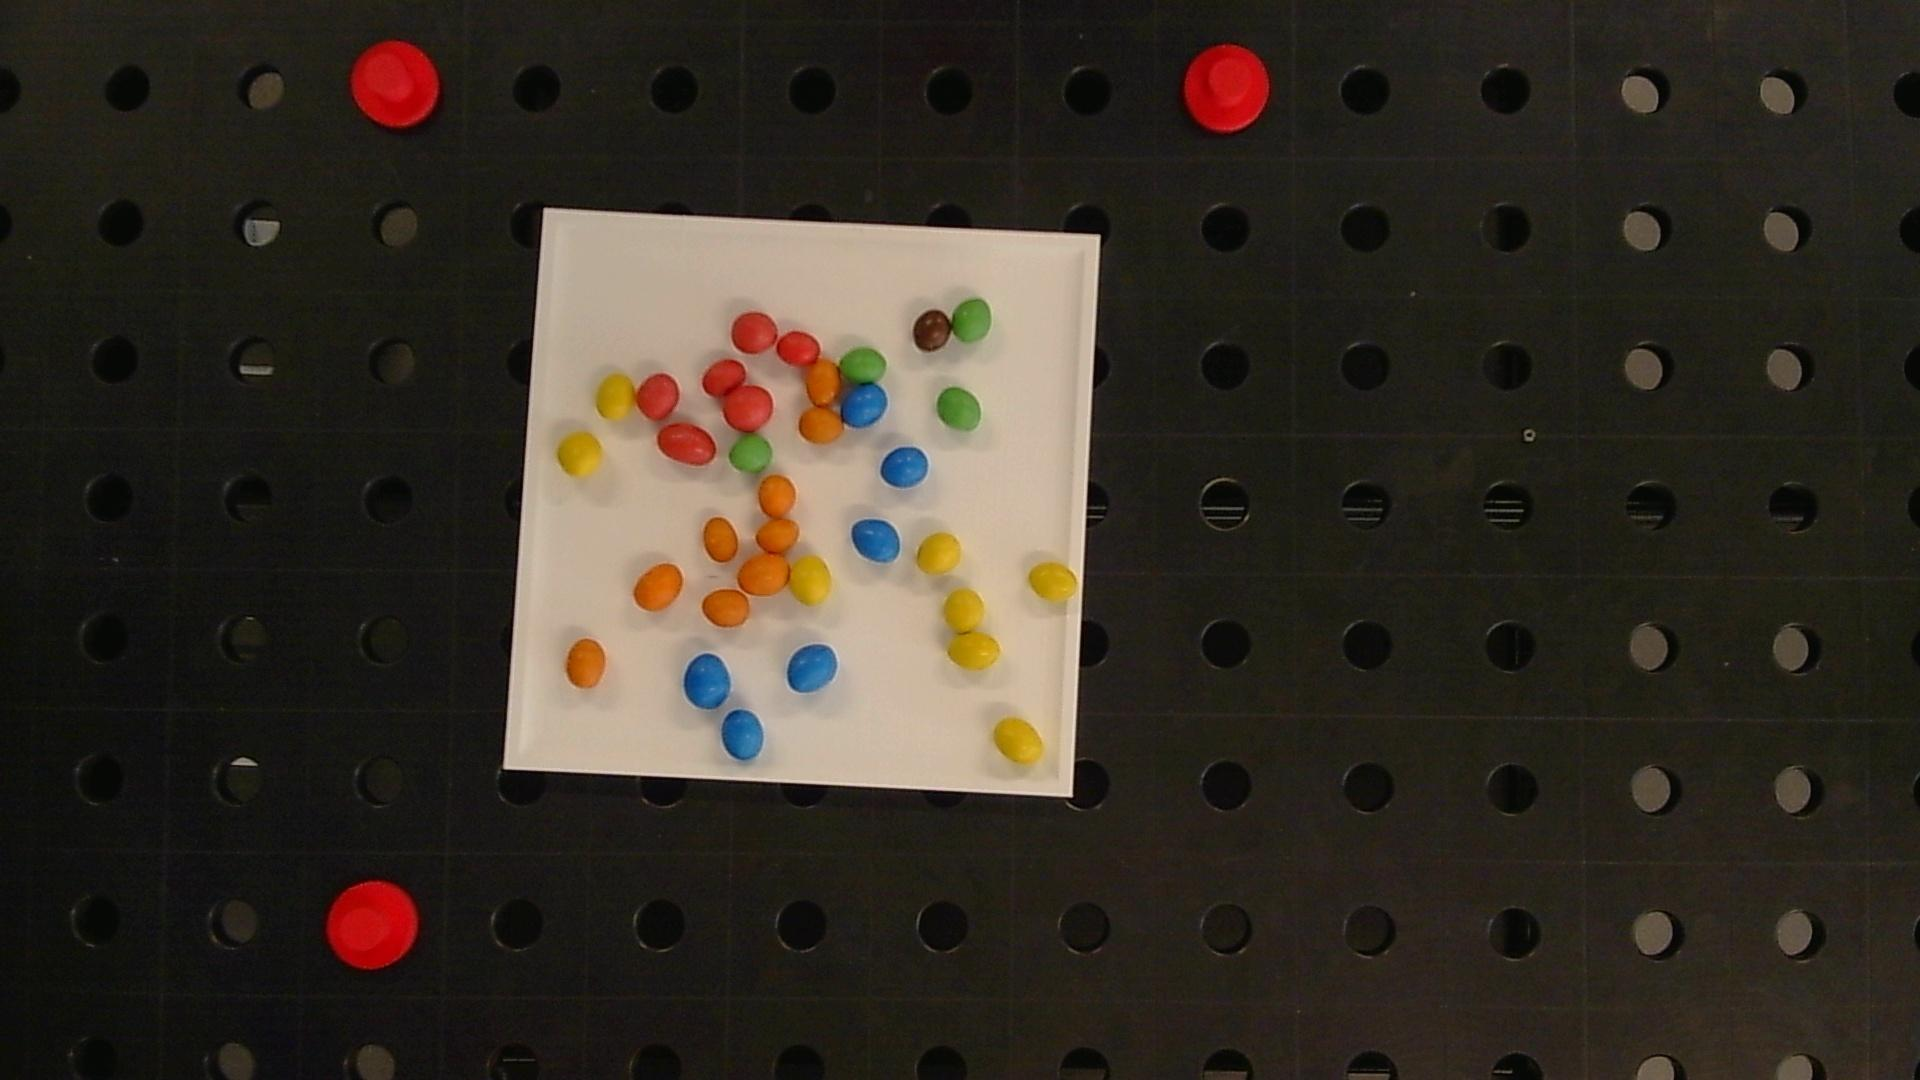blue: (683, 653, 731, 708), (787, 644, 837, 692), (852, 518, 901, 563), (721, 709, 764, 760), (843, 384, 887, 427), (881, 447, 928, 488)
brown: (913, 309, 952, 351)
green: (936, 388, 982, 430), (952, 299, 992, 342), (840, 348, 886, 384), (731, 435, 771, 472)
orange: (633, 563, 683, 611), (737, 554, 790, 595), (566, 638, 607, 687), (702, 589, 749, 626), (760, 476, 796, 518), (800, 409, 843, 446), (703, 517, 738, 560), (806, 360, 840, 405), (758, 520, 798, 553)
red: (657, 423, 717, 464), (723, 385, 773, 430), (637, 373, 679, 419), (731, 311, 778, 352), (703, 359, 745, 396), (777, 331, 820, 364)
yellow: (993, 717, 1044, 765), (556, 433, 603, 476), (791, 556, 832, 605), (1029, 562, 1079, 601), (916, 533, 963, 575), (949, 633, 1002, 670), (944, 589, 985, 633), (596, 375, 636, 419)
